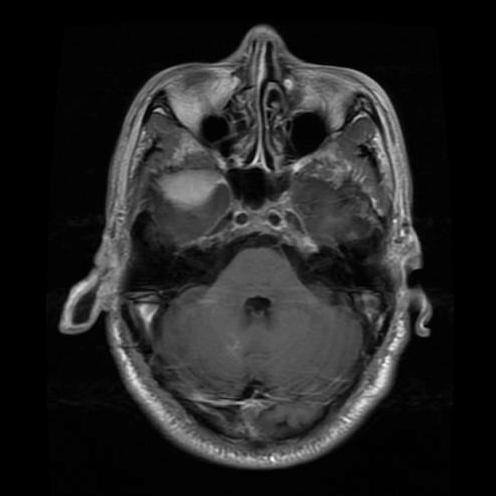Tumour-Meningioma: (140, 157, 226, 236)
